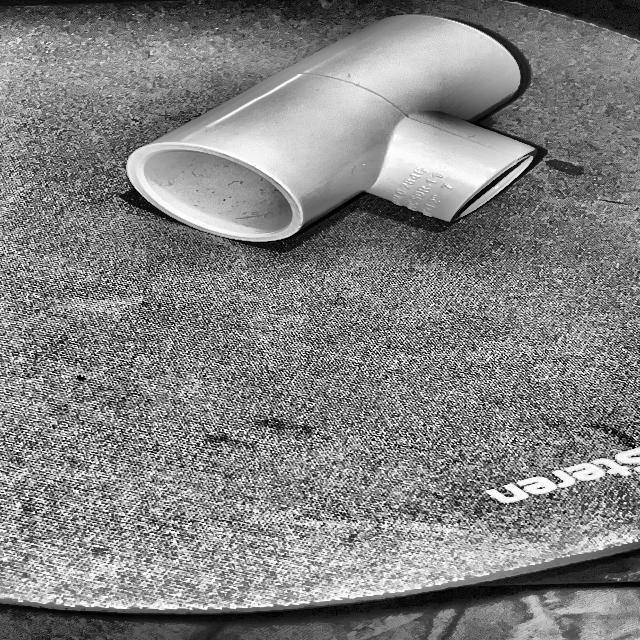EQUALTEE: (126, 13, 542, 245)
